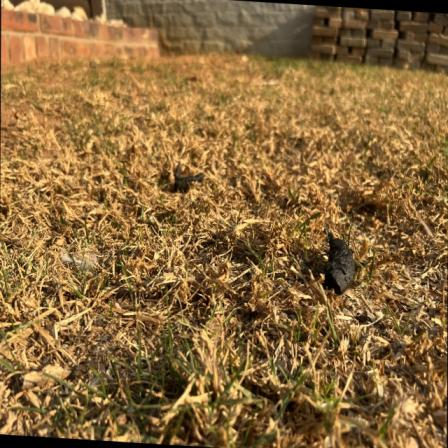dog-poop: (318, 222, 367, 295), (170, 160, 206, 194)
